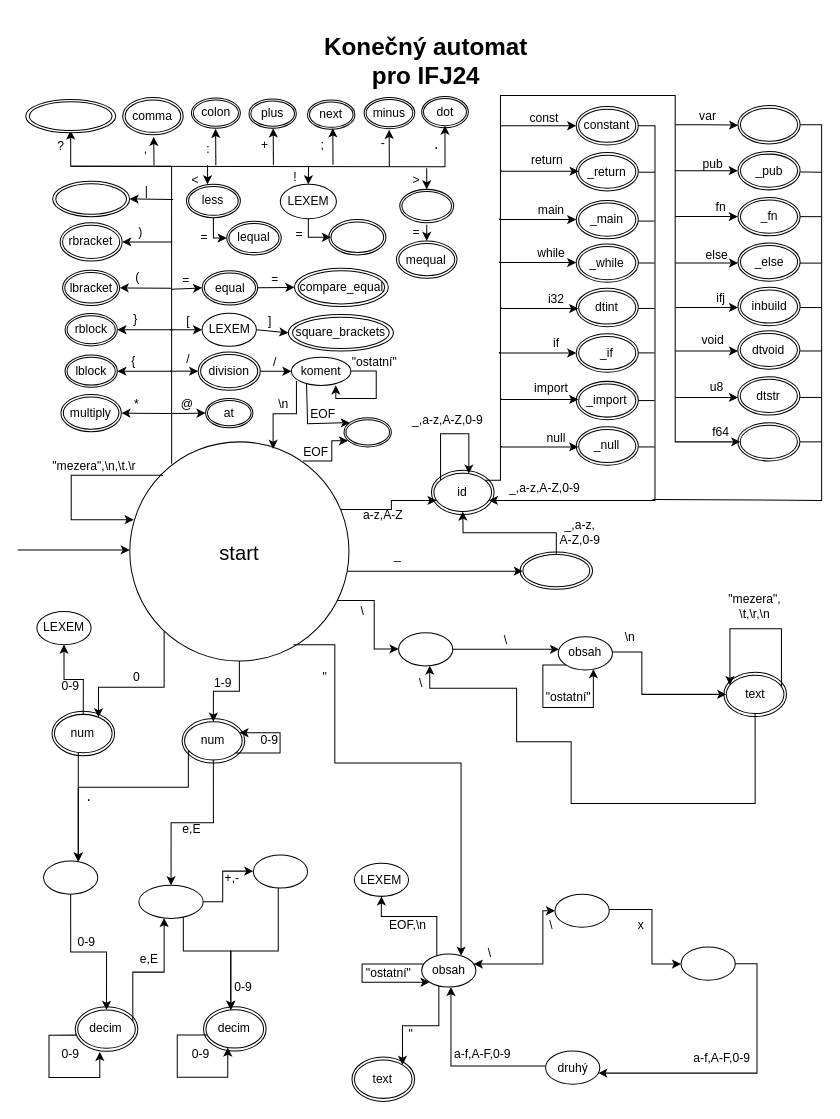
The diagram is 840 pixels wide and 1119 high, and some of its shapes have lost their labels. The centre of each missing label's shape, as x and y in pixels:
"dtflt" goes at (x=768, y=441).
"end" goes at (x=367, y=432).
"escape" goes at (x=581, y=910).
"exponent" goes at (x=170, y=901).
"hexa" goes at (x=707, y=963).
"lomítko" goes at (x=425, y=649).
"more" goes at (x=426, y=205).
"nequal" goes at (x=357, y=236).
"pól" goes at (x=280, y=871).
"question_mark" goes at (x=70, y=115).
"tečka" goes at (x=70, y=877).
"underscore" goes at (x=556, y=570).
"variable" goes at (x=768, y=124).
"vertical_bar" goes at (x=91, y=198).
